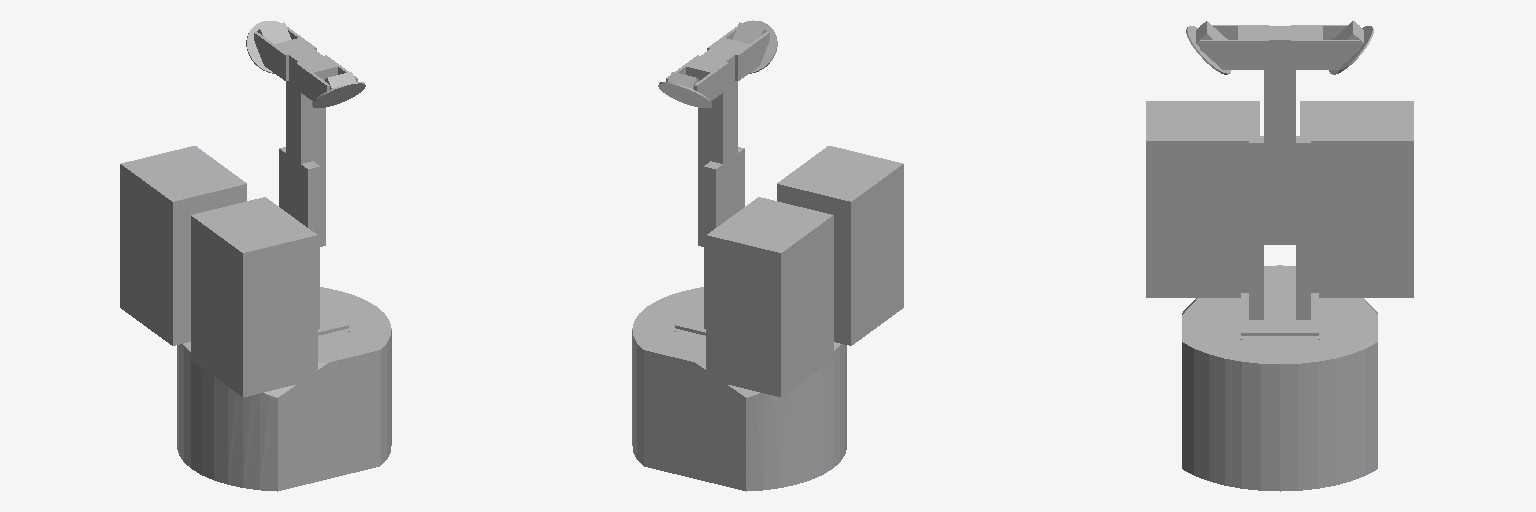
The robot description file, URDF, robot "GEN3_URDF_V12":
<robot name="GEN3_URDF_V12" version="1.0">
  <link name="world">
  </link>
  <joint name="Fix_world" type="fixed">
    <parent link="world" />
    <child link="Base_Link" />
  </joint>
  <link name="Base_Link">
    <inertial>
      <origin xyz="-0.000648 -0.000166 0.084487" rpy="0 0 0" />
      <mass value="1.697" />
      <inertia ixx="0.004622" ixy="9E-06" ixz="6E-05" iyy="0.004495" iyz="9E-06" izz="0.002079" />
    </inertial>
    <visual>
      <origin xyz="0 0 0" rpy="0 0 0" />
      <geometry>
        <mesh filename="kinova_gen3_7dof/base_link.STL" />
      </geometry>
      <material name="">
        <color rgba="0.75294 0.75294 0.75294 1" />
      </material>
    </visual>
    <collision>
      <origin xyz="0 0 0" rpy="0 0 0" />
      <geometry>
        <mesh filename="kinova_gen3_7dof/base_link.STL" />
      </geometry>
    </collision>
  </link>
  <link name="Shoulder_Link">
    <inertial>
      <origin xyz="-2.3E-05 -0.010364 -0.07336" rpy="0 0 0" />
      <mass value="1.3773" />
      <inertia ixx="0.00457" ixy="1E-06" ixz="2E-06" iyy="0.004831" iyz="0.000448" izz="0.001409" />
    </inertial>
    <visual>
      <origin xyz="0 0 0" rpy="0 0 0" />
      <geometry>
        <mesh filename="kinova_gen3_7dof/shoulder_link.STL" />
      </geometry>
      <material name="">
        <color rgba="0.75294 0.75294 0.75294 1" />
      </material>
    </visual>
    <collision>
      <origin xyz="0 0 0" rpy="0 0 0" />
      <geometry>
        <mesh filename="kinova_gen3_7dof/shoulder_link.STL" />
      </geometry>
    </collision>
  </link>
  <joint name="Actuator1" type="continuous">
    <origin xyz="0 0 0.15643" rpy="3.1416 2.7629E-18 -4.9305E-36" />
    <parent link="Base_Link" />
    <child link="Shoulder_Link" />
    <axis xyz="0 0 1" />
    <limit lower="-1000" upper="1000" effort="39" velocity="0.8727" />
  </joint>
  <link name="HalfArm1_Link">
    <inertial>
      <origin xyz="-4.4E-05 -0.09958 -0.013278" rpy="0 0 0" />
      <mass value="1.1636" />
      <inertia ixx="0.011088" ixy="5E-06" ixz="0" iyy="0.001072" iyz="-0.000691" izz="0.011255" />
    </inertial>
    <visual>
      <origin xyz="0 0 0" rpy="0 0 0" />
      <geometry>
        <mesh filename="kinova_gen3_7dof/half_arm_1_link.STL" />
      </geometry>
      <material name="">
        <color rgba="0.75294 0.75294 0.75294 1" />
      </material>
    </visual>
    <collision>
      <origin xyz="0 0 0" rpy="0 0 0" />
      <geometry>
        <mesh filename="kinova_gen3_7dof/half_arm_1_link.STL" />
      </geometry>
    </collision>
  </link>
  <joint name="Actuator2" type="revolute">
    <origin xyz="0 0.005375 -0.12838" rpy="1.5708 2.1343E-17 -1.1102E-16" />
    <parent link="Shoulder_Link" />
    <child link="HalfArm1_Link" />
    <axis xyz="0 0 1" />
    <limit lower="-2.41" upper="2.41" effort="39" velocity="0.8727" />
  </joint>
  <link name="HalfArm2_Link">
    <inertial>
      <origin xyz="-4.4E-05 -0.006641 -0.117892" rpy="0 0 0" />
      <mass value="1.1636" />
      <inertia ixx="0.010932" ixy="0" ixz="-7E-06" iyy="0.011127" iyz="0.000606" izz="0.001043" />
    </inertial>
    <visual>
      <origin xyz="0 0 0" rpy="0 0 0" />
      <geometry>
        <mesh filename="kinova_gen3_7dof/half_arm_2_link.STL" />
      </geometry>
      <material name="">
        <color rgba="0.75294 0.75294 0.75294 1" />
      </material>
    </visual>
    <collision>
      <origin xyz="0 0 0" rpy="0 0 0" />
      <geometry>
        <mesh filename="kinova_gen3_7dof/half_arm_2_link.STL" />
      </geometry>
    </collision>
  </link>
  <joint name="Actuator3" type="continuous">
    <origin xyz="0 -0.21038 -0.006375" rpy="-1.5708 1.2326E-32 -2.9122E-16" />
    <parent link="HalfArm1_Link" />
    <child link="HalfArm2_Link" />
    <axis xyz="0 0 1" />
    <limit lower="-1000" upper="1000" effort="39" velocity="0.8727" />
  </joint>
  <link name="ForeArm_Link">
    <inertial>
      <origin xyz="-1.8E-05 -0.075478 -0.015006" rpy="0 0 0" />
      <mass value="0.9302" />
      <inertia ixx="0.008147" ixy="-1E-06" ixz="0" iyy="0.000631" iyz="-0.0005" izz="0.008316" />
    </inertial>
    <visual>
      <origin xyz="0 0 0" rpy="0 0 0" />
      <geometry>
        <mesh filename="kinova_gen3_7dof/forearm_link.STL" />
      </geometry>
      <material name="">
        <color rgba="0.75294 0.75294 0.75294 1" />
      </material>
    </visual>
    <collision>
      <origin xyz="0 0 0" rpy="0 0 0" />
      <geometry>
        <mesh filename="kinova_gen3_7dof/forearm_link.STL" />
      </geometry>
    </collision>
  </link>
  <joint name="Actuator4" type="revolute">
    <origin xyz="0 0.006375 -0.21038" rpy="1.5708 -6.6954E-17 -1.6653E-16" />
    <parent link="HalfArm2_Link" />
    <child link="ForeArm_Link" />
    <axis xyz="0 0 1" />
    <limit lower="-2.66" upper="2.66" effort="39" velocity="0.8727" />
  </joint>
  <link name="SphericalWrist1_Link">
    <inertial>
      <origin xyz="1E-06 -0.009432 -0.063883" rpy="0 0 0" />
      <mass value="0.6781" />
      <inertia ixx="0.001596" ixy="0" ixz="0" iyy="0.001607" iyz="0.000256" izz="0.000399" />
    </inertial>
    <visual>
      <origin xyz="0 0 0" rpy="0 0 0" />
      <geometry>
        <mesh filename="kinova_gen3_7dof/spherical_wrist_1_link.STL" />
      </geometry>
      <material name="">
        <color rgba="0.75294 0.75294 0.75294 1" />
      </material>
    </visual>
    <collision>
      <origin xyz="0 0 0" rpy="0 0 0" />
      <geometry>
        <mesh filename="kinova_gen3_7dof/spherical_wrist_1_link.STL" />
      </geometry>
    </collision>
  </link>
  <joint name="Actuator5" type="continuous">
    <origin xyz="0 -0.20843 -0.006375" rpy="-1.5708 2.2204E-16 -6.373E-17" />
    <parent link="ForeArm_Link" />
    <child link="SphericalWrist1_Link" />
    <axis xyz="0 0 1" />
    <limit lower="-1000" upper="1000" effort="9" velocity="0.8727" />
  </joint>
  <link name="SphericalWrist2_Link">
    <inertial>
      <origin xyz="1E-06 -0.045483 -0.00965" rpy="0 0 0" />
      <mass value="0.6781" />
      <inertia ixx="0.001641" ixy="0" ixz="0" iyy="0.00041" iyz="-0.000278" izz="0.001641" />
    </inertial>
    <visual>
      <origin xyz="0 0 0" rpy="0 0 0" />
      <geometry>
        <mesh filename="kinova_gen3_7dof/spherical_wrist_2_link.STL" />
      </geometry>
      <material name="">
        <color rgba="0.75294 0.75294 0.75294 1" />
      </material>
    </visual>
    <collision>
      <origin xyz="0 0 0" rpy="0 0 0" />
      <geometry>
        <mesh filename="kinova_gen3_7dof/spherical_wrist_2_link.STL" />
      </geometry>
    </collision>
  </link>
  <joint name="Actuator6" type="revolute">
    <origin xyz="0 0.00017505 -0.10593" rpy="1.5708 9.2076E-28 -8.2157E-15" />
    <parent link="SphericalWrist1_Link" />
    <child link="SphericalWrist2_Link" />
    <axis xyz="0 0 1" />
    <limit lower="-2.23" upper="2.23" effort="9" velocity="0.8727" />
  </joint>
  <link name="Bracelet_Link">
    <inertial>
      <origin xyz="-0.000281 -0.011402 -0.029798" rpy="0 0 0" />
      <mass value="0.5006" />
      <inertia ixx="0.000587" ixy="3E-06" ixz="3E-06" iyy="0.000369" iyz="0.000118" izz="0.000609" />
    </inertial>
    <visual>
      <origin xyz="0 0 0" rpy="0 0 0" />
      <geometry>
        <mesh filename="kinova_gen3_7dof/bracelet_no_vision_link.STL" />
      </geometry>
      <material name="">
        <color rgba="0.75294 0.75294 0.75294 1" />
      </material>
    </visual>
    <collision>
      <origin xyz="0 0 0" rpy="0 0 0" />
      <geometry>
        <mesh filename="kinova_gen3_7dof/bracelet_no_vision_link.STL" />
      </geometry>
    </collision>
  </link>
  <joint name="Actuator7" type="continuous">
    <origin xyz="0 -0.10593 -0.00017505" rpy="-1.5708 -5.5511E-17 9.6396E-17" />
    <parent link="SphericalWrist2_Link" />
    <child link="Bracelet_Link" />
    <axis xyz="0 0 1" />
    <limit lower="-1000" upper="1000" effort="9" velocity="0.8727" />
  </joint>
  <link name="EndEffector_Link" />
  <joint name="EndEffector" type="fixed">
    <origin xyz="0 0 -0.0615250000000001" rpy="3.14159265358979 1.09937075168372E-32 0" />
    <parent link="Bracelet_Link" />
    <child link="EndEffector_Link" />
    <axis xyz="0 0 0" />
  </joint>
  <klampt world_frame="world" defaultAccMax="4">
    <noselfcollision group1="Base_Link Shoulder_Link" group2="HalfArm1_Link HalfArm2_Link ForeArm_Link SphericalWrist1_Link" />
    <noselfcollision group1="HalfArm1_Link HalfArm2_Link" group2="ForeArm_Link SphericalWrist1_Link" />
    <noselfcollision group1="HalfArm2_Link ForeArm_Link" group2="SphericalWrist1_Link SphericalWrist2_Link Bracelet_Link" />
    <noselfcollision group1="SphericalWrist1_Link" group2="Bracelet_Link" />

    <link name="Shoulder_Link" servoP="1000" servoI="0" servoD="60" dryFriction="1" viscousFriction="8" />
    <link name="HalfArm1_Link" servoP="1600" servoI="0" servoD="80" dryFriction="1" viscousFriction="10" />
    <link name="HalfArm2_Link" servoP="800" servoI="0" servoD="20" dryFriction="1" viscousFriction="6" />
    <link name="ForeArm_Link" servoP="600" servoI="0" servoD="20" dryFriction="1" viscousFriction="4" />
    <link name="SphericalWrist1_Link" servoP="200" servoI="0" servoD="5" dryFriction="0" viscousFriction="2" />
    <link name="SphericalWrist2_Link" servoP="50" servoI="0" servoD="2" dryFriction="0" viscousFriction="2" />
    <link name="Bracelet_Link" servoP="20" servoI="0" servoD="1" dryFriction="0" viscousFriction="1" />
  </klampt>
</robot>

--- What the picture shows (computed from the rendered views, not written in the file) ---
3 views of the same robot in one strip: view 1: azimuth 30°, elevation 25°; view 2: azimuth 150°, elevation 25°; view 3: azimuth 270°, elevation 25° (orthographic).
Robot: GEN3_URDF_V12 — 10 links, 9 joints (3 revolute, 4 continuous, 2 fixed); root link world; default pose: every joint at zero.
Visible links, largest first — view 1: Base_Link; view 2: Base_Link; view 3: Base_Link.
Boxes of the visible links, bbox=[...] form: Base_Link: bbox=[120, 21, 391, 491]; Base_Link: bbox=[632, 20, 903, 491]; Base_Link: bbox=[1146, 21, 1413, 491].
Size in the robot's own frame: 0.6315 by 0.6843 by 1.2 metres.
Meshes: 8 distinct files referenced, 1 mesh visuals loaded (1 binary STL); not drawn: 7 (reference not matched to a file when rendering).